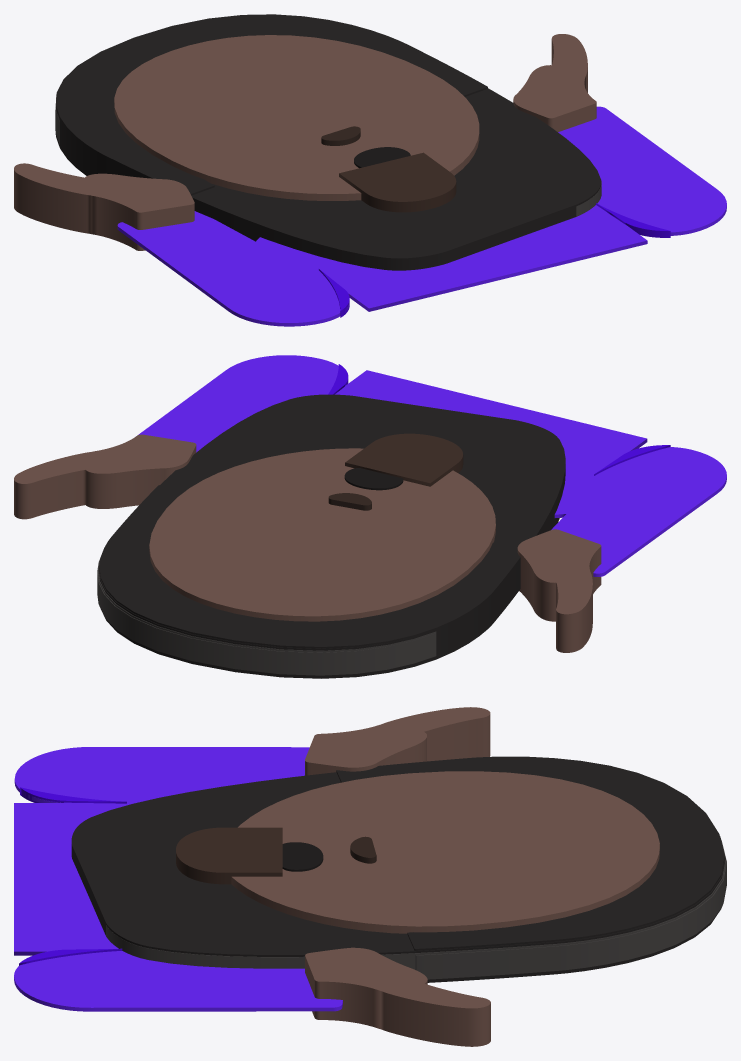
File: emoji_u1f937_1f3ff_200d_2640.glb
The picture shows the model from 3 angles, top to bottom: view 1: azimuth 30°, elevation 25°; view 2: azimuth 150°, elevation 25°; view 3: azimuth 270°, elevation 25°; orthographic projection. The views are drawn at different scales.
Visible parts, largest first — view 1: emoji_u1f937_1f3ff_200d_2640; view 2: emoji_u1f937_1f3ff_200d_2640; view 3: emoji_u1f937_1f3ff_200d_2640.
Boxes of the visible parts, <box> form: emoji_u1f937_1f3ff_200d_2640: <box>14,14,726,326</box>; emoji_u1f937_1f3ff_200d_2640: <box>14,355,726,678</box>; emoji_u1f937_1f3ff_200d_2640: <box>14,707,726,1046</box>.
Size of the model in its own units: 0.0335 by 0.003 by 0.0337.
